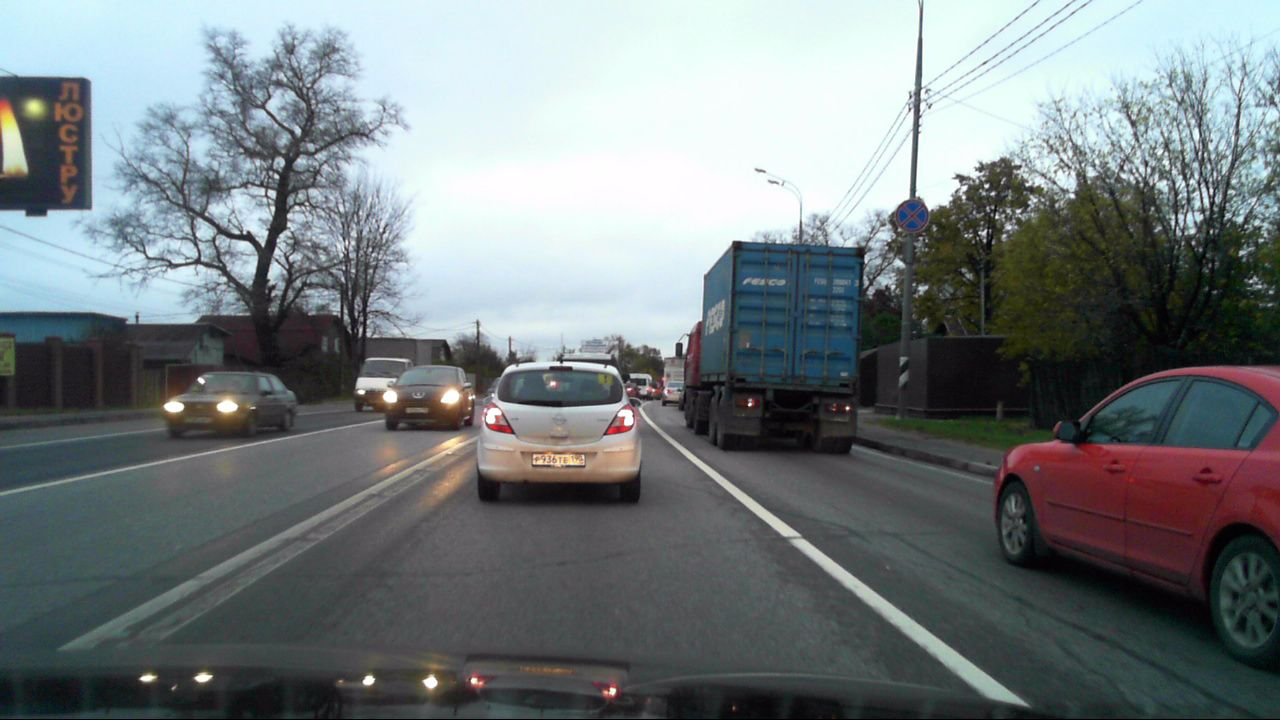No Parking: (895, 199, 929, 233)
